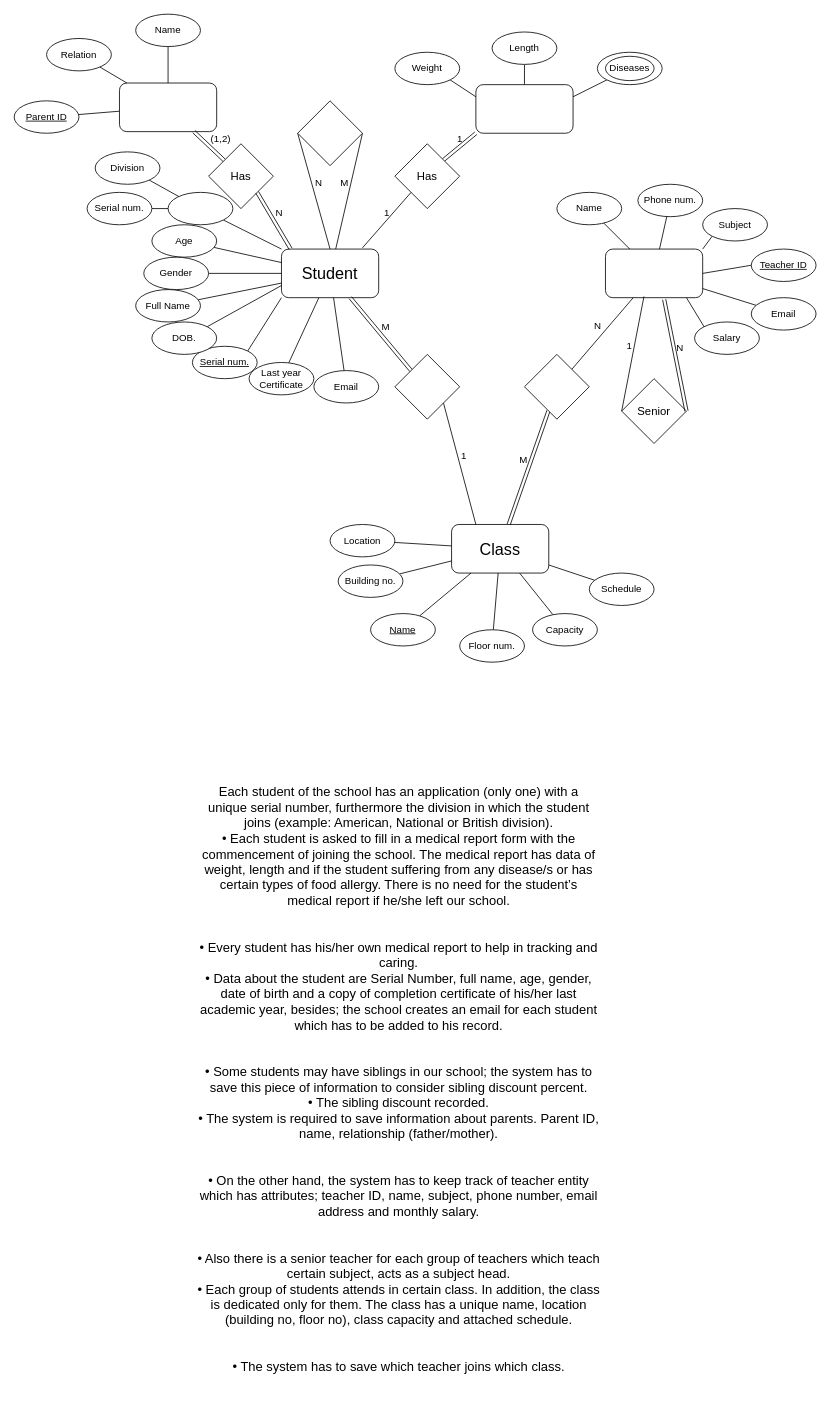
The diagram is 830 pixels wide and 1405 high, and some of its shapes have lost their labels. The centre of each missing label's shape, as x and y in pixels:
"Application" belongs at point (200, 208).
"Attends" belongs at point (427, 386).
"has sibling" belongs at point (329, 133).
"Medical Report" belongs at point (524, 108).
"Parent" belongs at point (168, 107).
"Teacher" belongs at point (654, 273).
"Teaches" belongs at point (556, 386).
